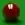brown: (0, 0, 25, 25)
